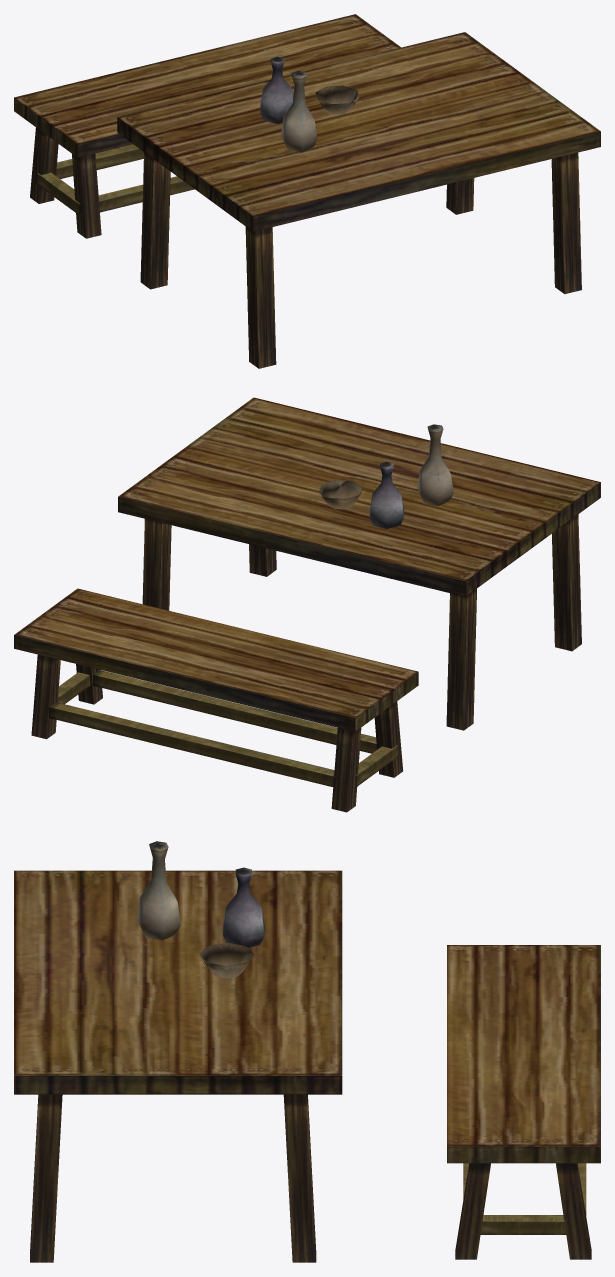
3 views of the same model, one above another, from view 1: azimuth 30°, elevation 25°; view 2: azimuth 150°, elevation 25°; view 3: azimuth 270°, elevation 25° (orthographic). The views are drawn at different scales.
Parts seen in each view (by area): view 1: Sphere01; view 2: Sphere01; view 3: Sphere01.
Boxes of the visible parts, x1,y1,x2,y2 form: Sphere01: (14, 14, 600, 368); Sphere01: (14, 397, 600, 812); Sphere01: (14, 841, 600, 1262).
Bounding box in the file's own units: 2.05 × 1.31 × 2.48.
